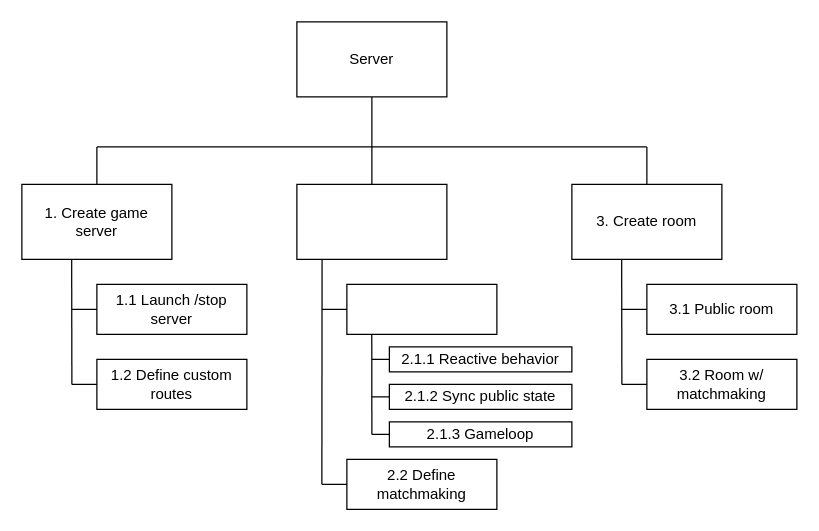
This 819x531 diagram has some shape labels left out. The centre of each missing label's shape, as x and y in pixels:
"2. Define room type" belongs at (x=371, y=221).
"2.1 Define room behavior" belongs at (x=421, y=308).
